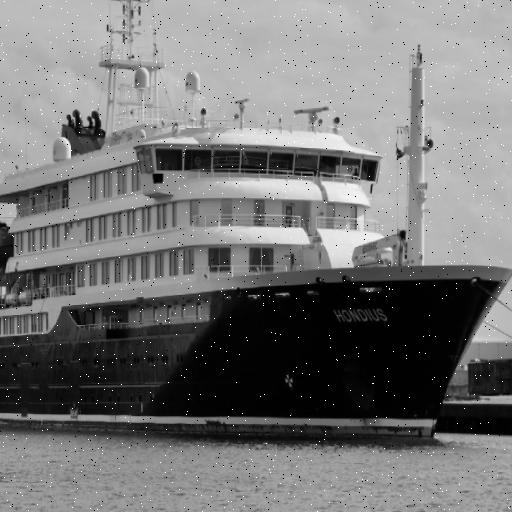cruises: (1, 40, 512, 460)
